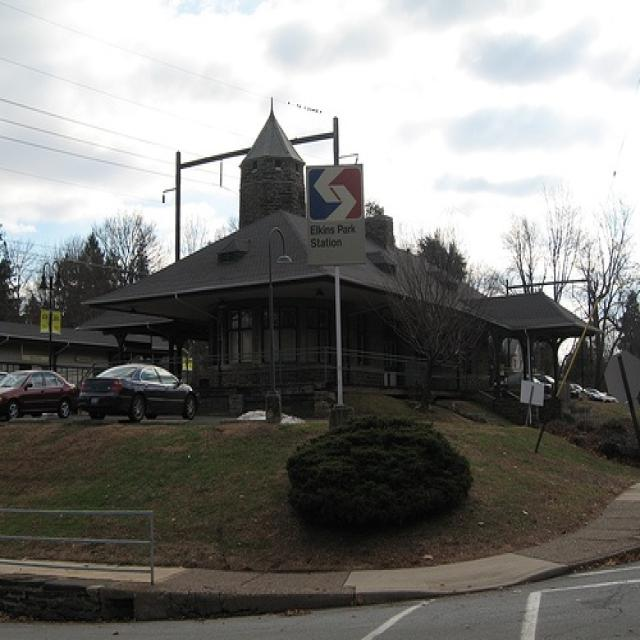car: (78, 362, 198, 421), (0, 367, 78, 418)
